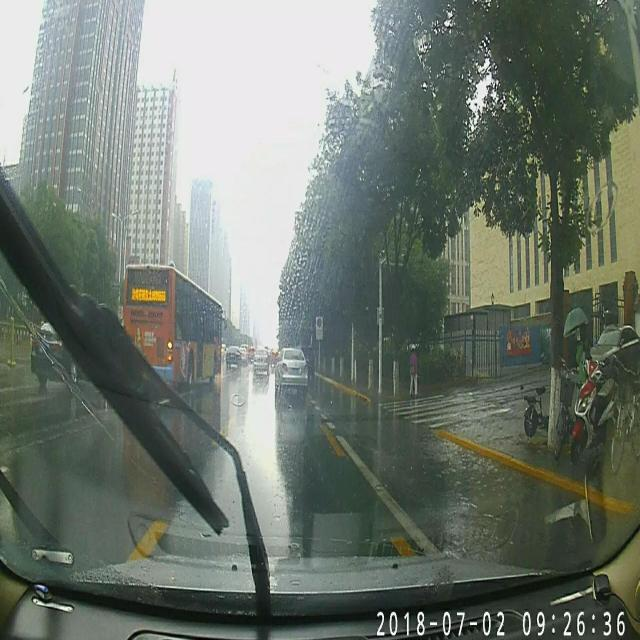car: (30, 292, 120, 392), (274, 343, 308, 401), (253, 344, 270, 382), (225, 344, 242, 374)
